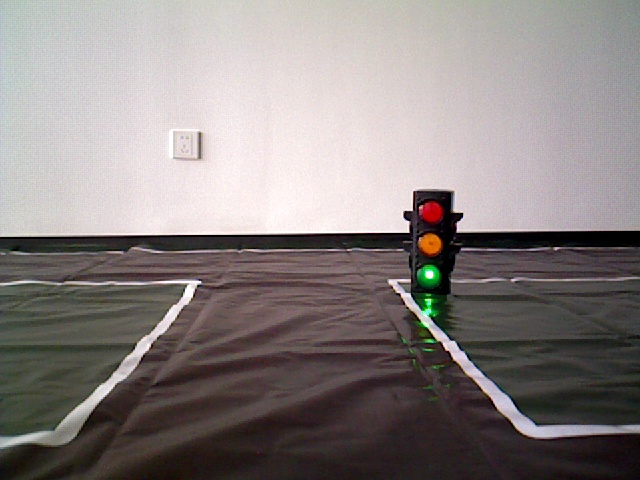green: (409, 195, 450, 288)
